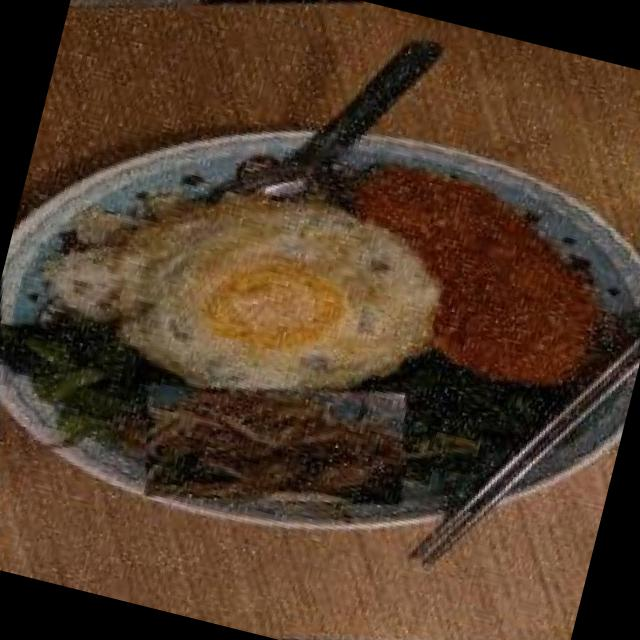fried_chicken: (295, 113, 640, 438)
fried_eggs: (75, 130, 482, 471)
mung_bean_sprouts: (121, 331, 427, 556)
